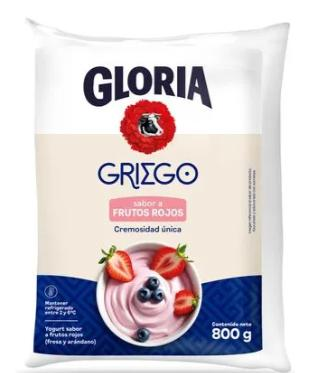brand: (82, 60, 212, 116)
extra_detail: (107, 197, 188, 221)
net_weight: (207, 326, 254, 344)
product_name: (98, 157, 202, 192)
